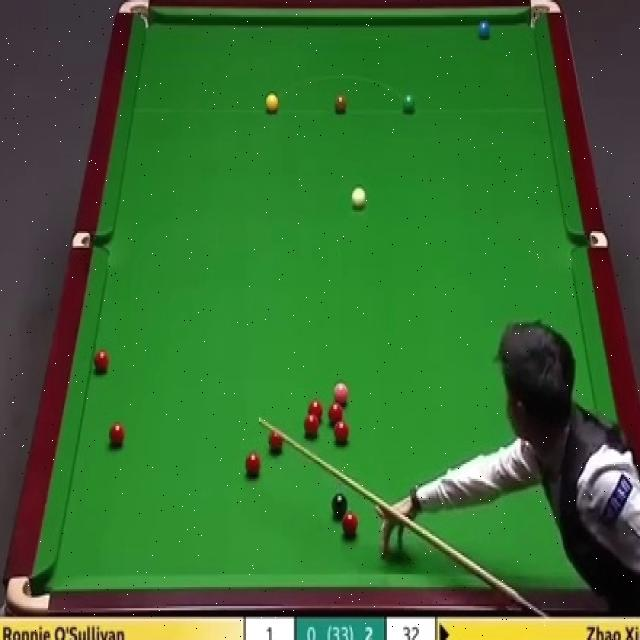black-ball: (331, 492, 346, 516)
blue-ball: (478, 20, 490, 42)
brown-ball: (335, 93, 348, 114)
green-ball: (401, 93, 417, 116)
pink-ball: (333, 382, 349, 409)
red-ball: (244, 451, 262, 478), (334, 418, 350, 448), (327, 399, 344, 426), (308, 399, 324, 426), (341, 511, 358, 536), (93, 349, 110, 374), (268, 427, 284, 453), (110, 422, 124, 447), (304, 414, 318, 436)
white-ball: (350, 185, 368, 209)
yellow-ball: (264, 93, 280, 114)
